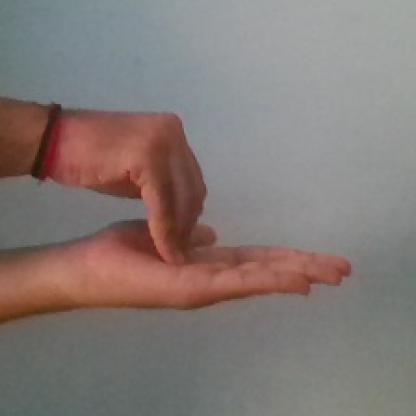Z: (60, 86, 356, 318)
